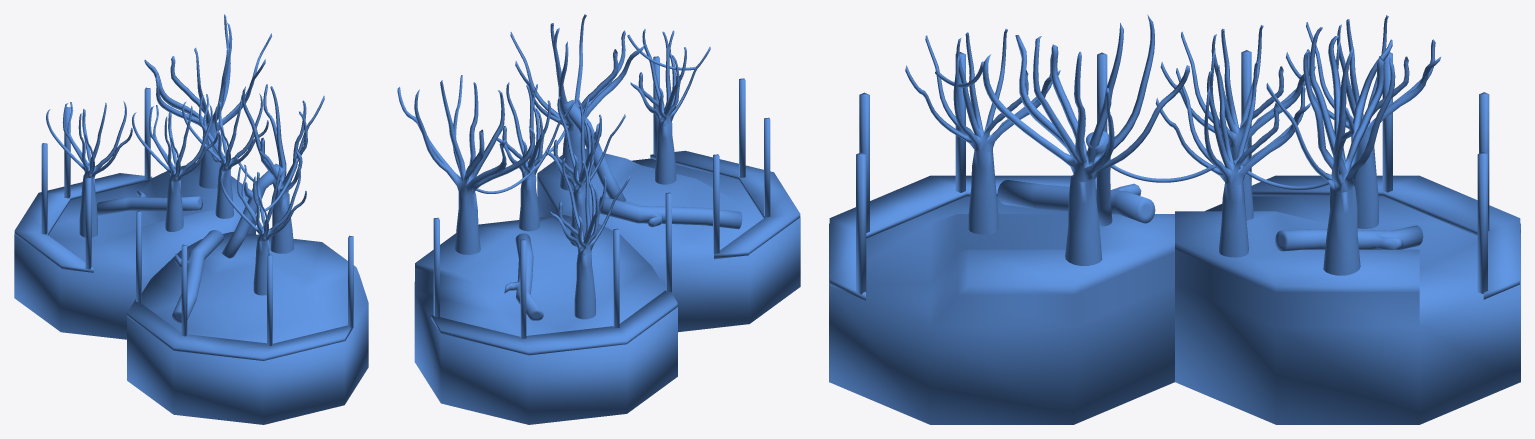
File: Zoo_ChimpEnclosure.fbx
3 renders of one model, left to right at view 1: azimuth 30°, elevation 25°; view 2: azimuth 150°, elevation 25°; view 3: azimuth 270°, elevation 25°, orthographic. The views are drawn at different scales.
Parts seen in each view (by area): view 1: Zoo_ChimpEnclosure; view 2: Zoo_ChimpEnclosure; view 3: Zoo_ChimpEnclosure.
Boxes of the visible parts, x1,y1,x2,y2 form: Zoo_ChimpEnclosure: [14, 14, 368, 424]; Zoo_ChimpEnclosure: [397, 14, 800, 424]; Zoo_ChimpEnclosure: [829, 14, 1520, 424].
Bounding box in the file's own units: 757 × 755 × 1260.
